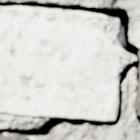brick: (0, 16, 119, 119), (0, 134, 30, 139), (135, 78, 139, 114)
crack: (0, 0, 139, 137), (135, 108, 139, 121)
